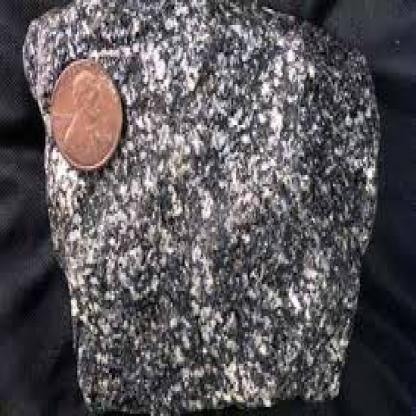Igneous_Diorite: (15, 9, 384, 409)
